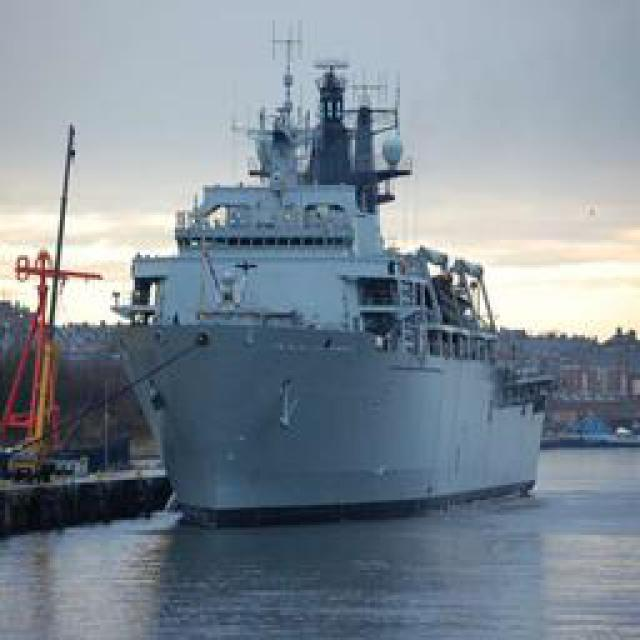Ship: (80, 16, 543, 516)
